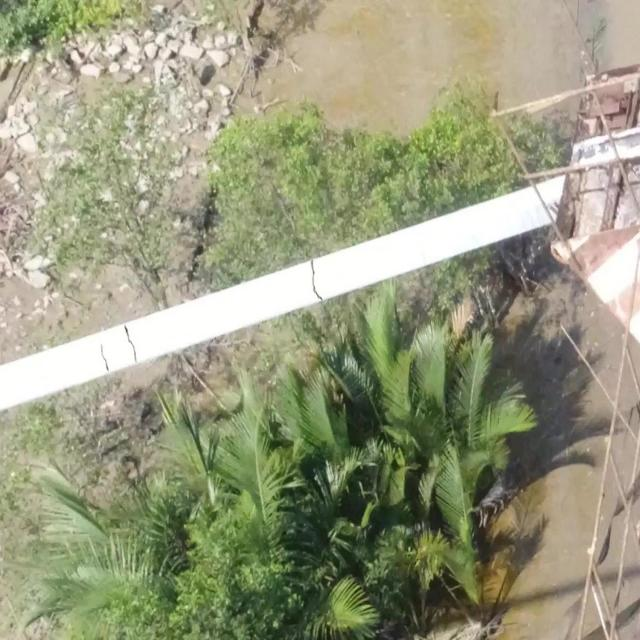crack: (309, 260, 324, 302), (124, 324, 138, 365), (100, 344, 110, 374)
